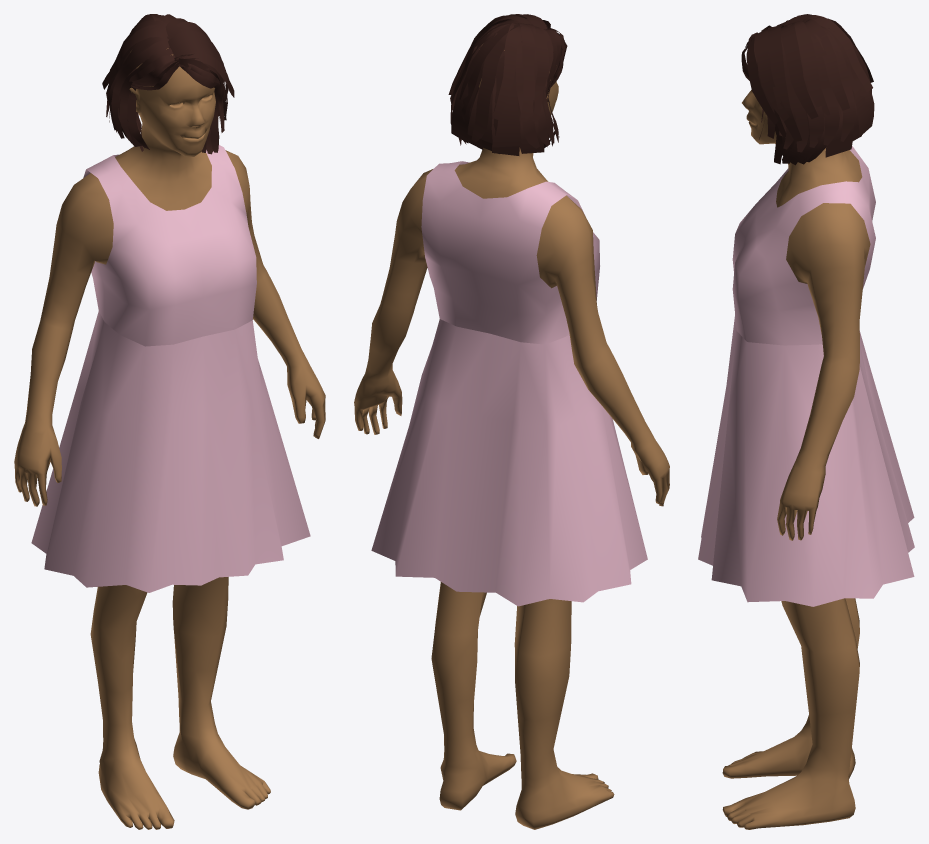
The model's file is Lady_2_1.glb.
3 renders of one model, left to right at view 1: azimuth 30°, elevation 25°; view 2: azimuth 150°, elevation 25°; view 3: azimuth 270°, elevation 25°, orthographic.
Visible parts, largest first — view 1: A-line_dress, Female.001; view 2: A-line_dress, Female.001; view 3: A-line_dress, Female.001.
Boxes of the visible parts, <box> form: A-line_dress: <box>31,145,310,592</box>; Female.001: <box>14,14,325,829</box>; A-line_dress: <box>371,161,647,606</box>; Female.001: <box>354,14,669,829</box>; A-line_dress: <box>698,146,914,606</box>; Female.001: <box>722,14,874,829</box>.
Size of the model in its own units: 0.6243 by 1.52 by 0.3845.
